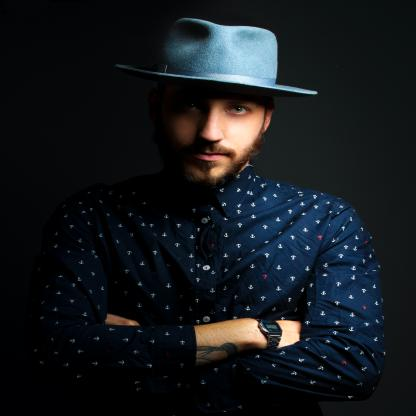Eye: (175, 97, 205, 113), (225, 104, 252, 118)
Mouth: (186, 148, 230, 164)
Nose: (193, 110, 225, 145)
